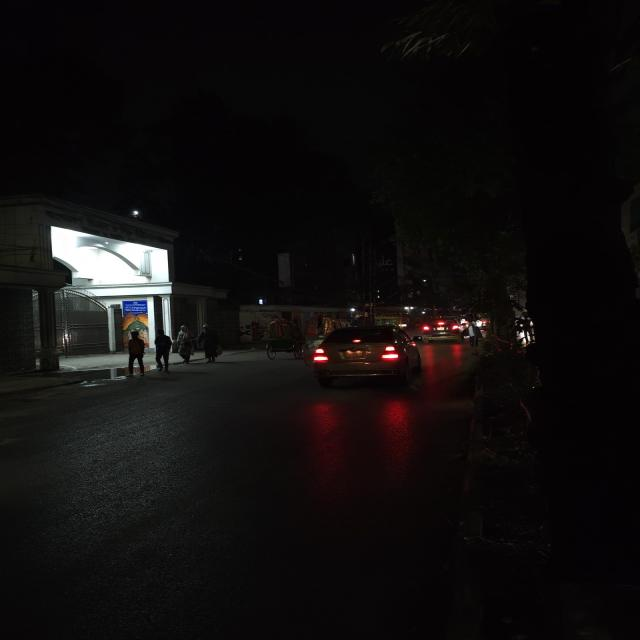car: (307, 324, 427, 391), (422, 316, 463, 343)
pedestrian: (122, 328, 148, 377), (194, 323, 224, 364), (151, 328, 175, 372), (177, 322, 197, 364), (465, 322, 482, 349)
rickshaw: (262, 319, 306, 361)
